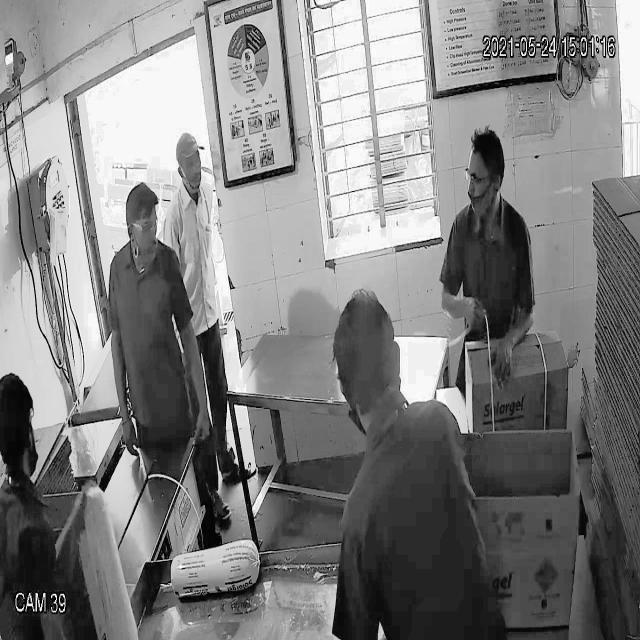glasses: (459, 160, 502, 191), (123, 214, 163, 241)
no-glass: (175, 152, 207, 175)
